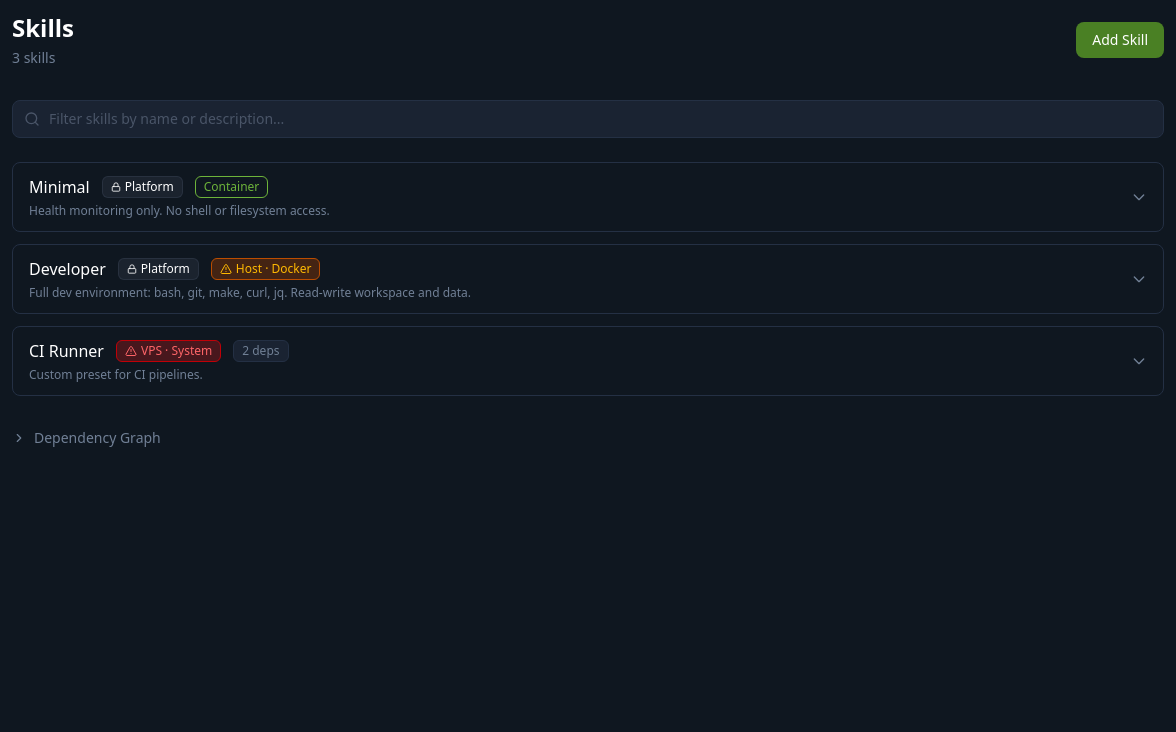
Test: SkillsClient › edit form pre-fills instructions_md for seeded skills
This screenshot has width=1176, height=732.
What coordinates should you click on to do the following:
click the text "Developer"
I would click on:
 (67, 269)
Its box is [29,257,106,281].
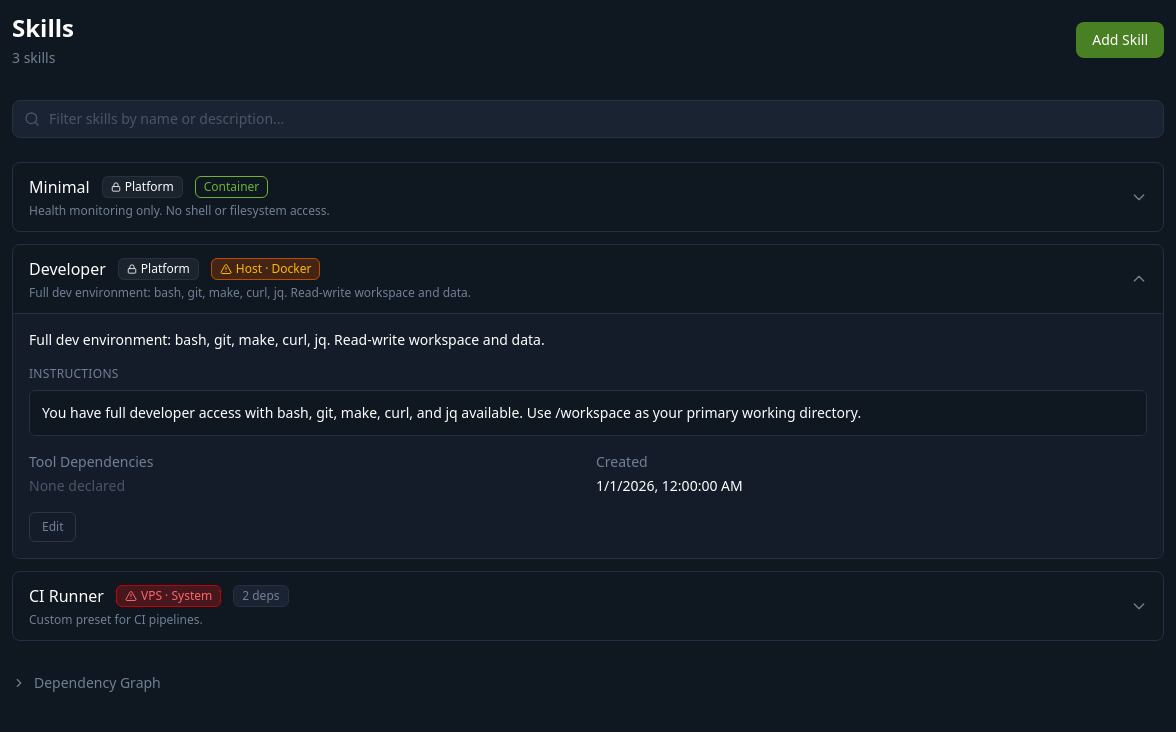
Now the button "Edit" is shown
What coordinates should you click on to do the following:
click the button "Edit"
I would click on:
 (53, 527)
Its box is [29,512,76,542].
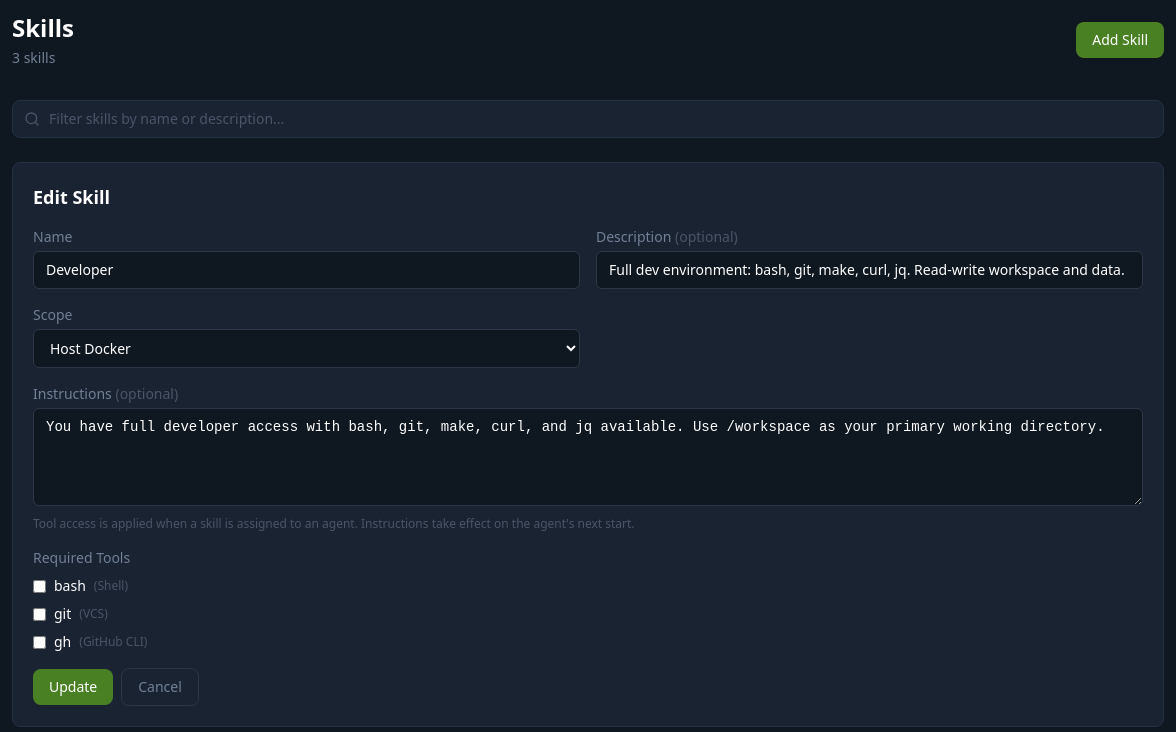
Now the heading "Edit Skill" is shown, box [33,185,110,209]
Now the text box with placeholder "Behavioral instructions for agents using this skill" holds "You have full developer access with bash, git, make, curl, and jq available. Use /workspace as your primary working directory.", box [33,408,1143,506]
